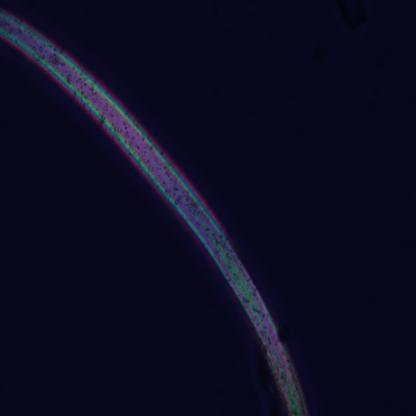Microfibre: (0, 10, 306, 415)
